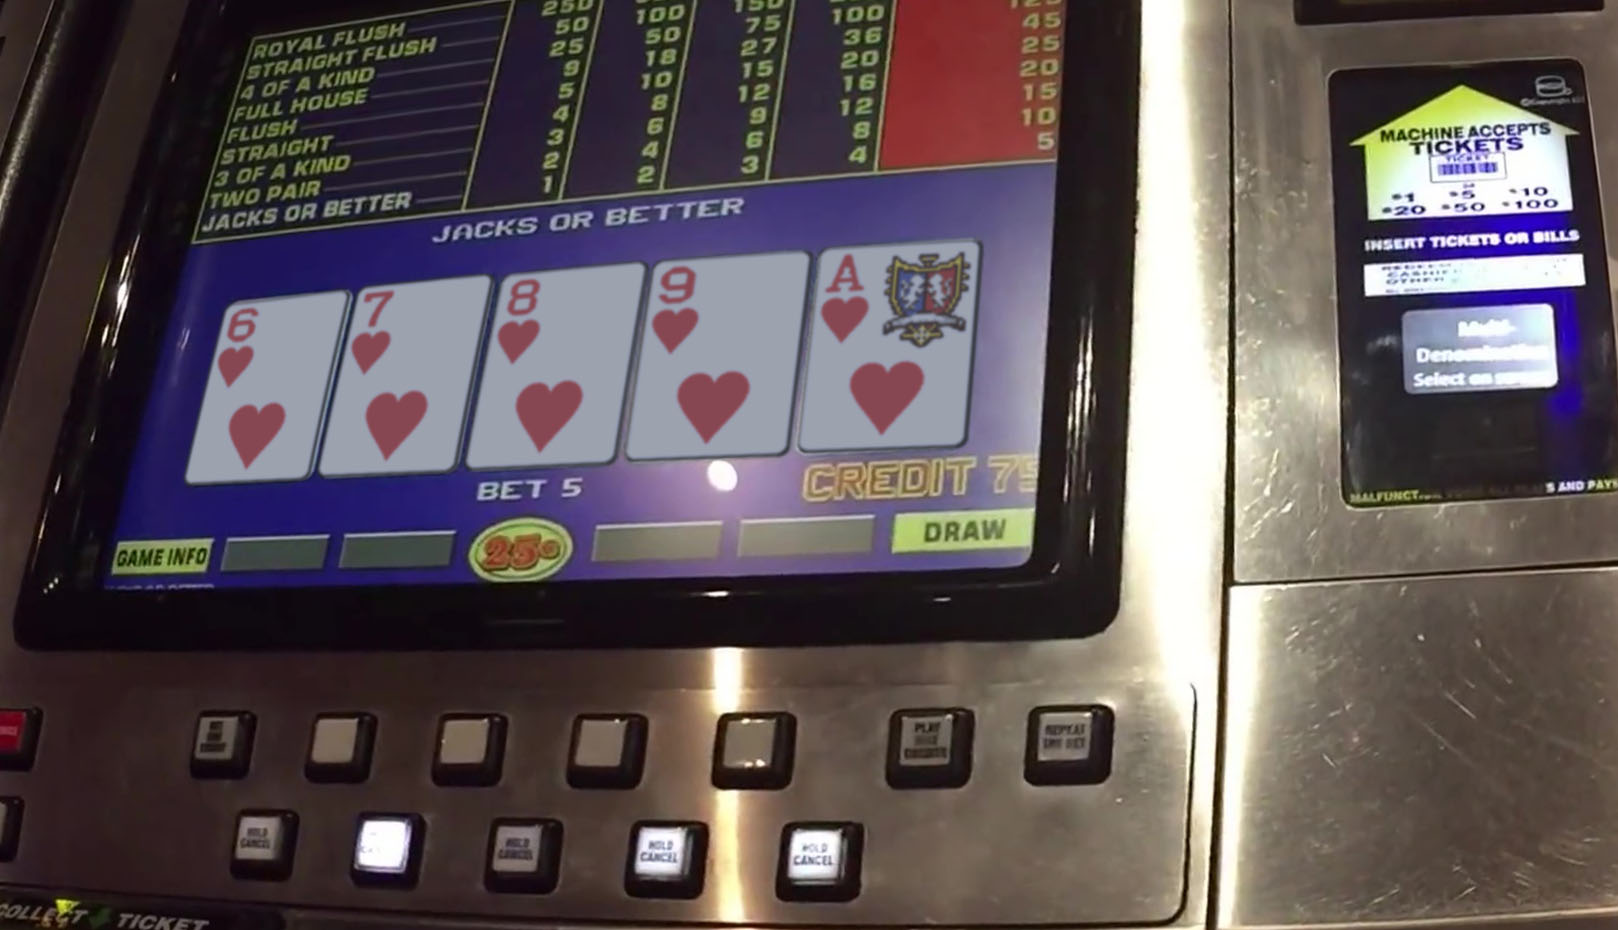H6: (214, 296, 334, 477)
H7: (344, 280, 477, 471)
H8: (485, 268, 635, 464)
H9: (645, 256, 792, 460)
HA: (821, 248, 965, 444)
